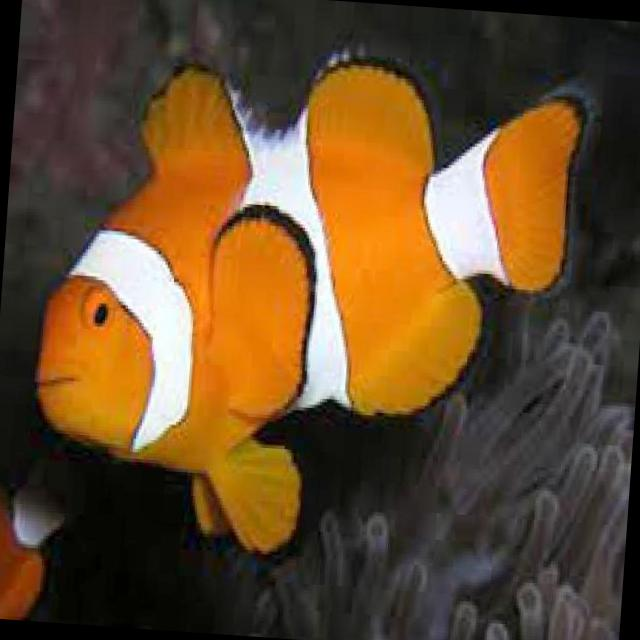ClownFish: (28, 28, 590, 577)
